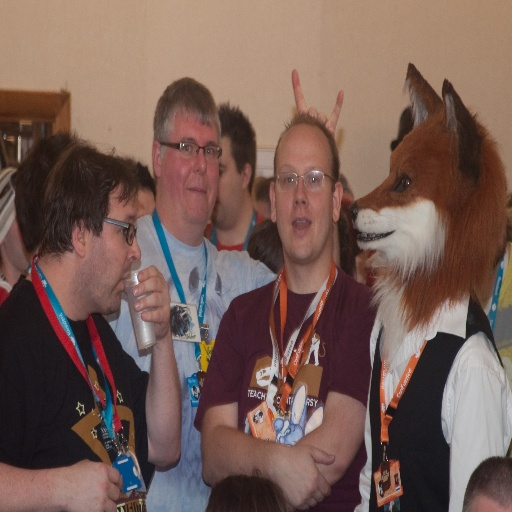hand: (271, 441, 336, 511), (291, 66, 344, 144), (127, 274, 170, 347), (68, 457, 124, 511)
